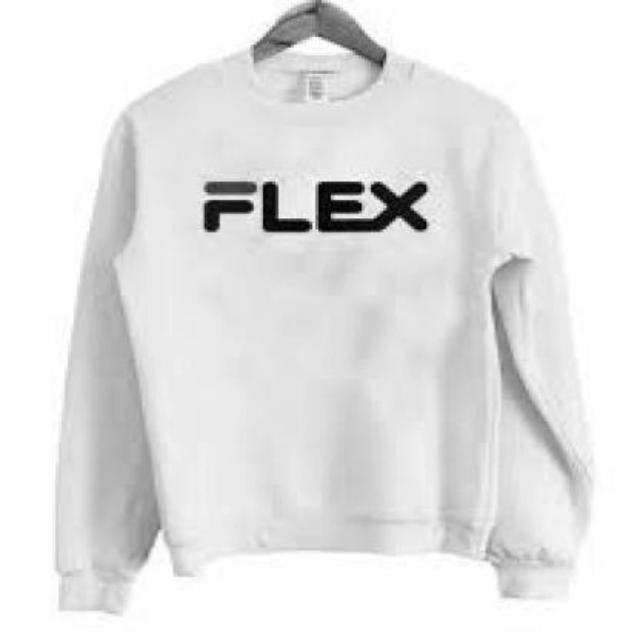FILA_fake: (188, 167, 462, 251)
